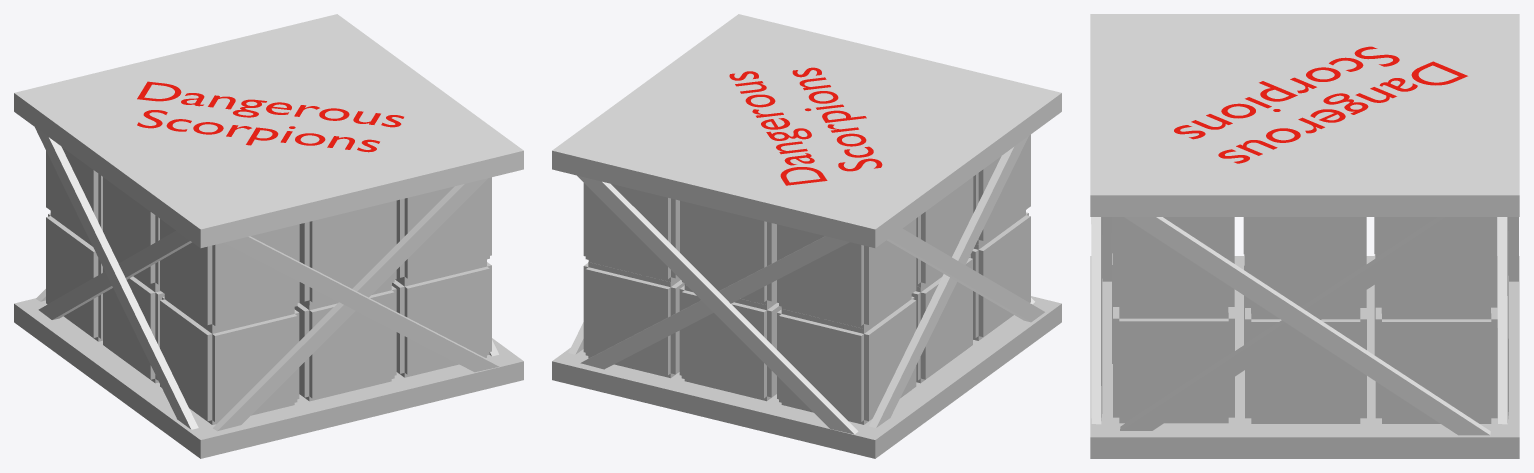
Rendered from Scorpion Box.fbx.
The picture shows the model from 3 angles, left to right: view 1: azimuth 30°, elevation 25°; view 2: azimuth 150°, elevation 25°; view 3: azimuth 270°, elevation 25°; orthographic projection. The views are drawn at different scales.
Parts seen in each view (by area): view 1: Plane.001, Plane, Cube.012, Cube.015, Cube.003, Cube, Cube.006, Cube.025, Cube.009, Cube.019, Cube.024, Cube.014 (+5 smaller); view 2: Plane.001, Plane, Cube.014, Cube.017, Cube.005, Cube.002, Cube.023, Cube.008, Cube.011, Cube.021, Cube.012, Cube.022 (+5 smaller); view 3: Plane.001, Plane, Cube.005, Cube.003, Cube.004, Cube.011, Cube.009, Cube.010, Cube.020, Cube.018, Text, Cube.024 (+3 smaller).
Boxes of the visible parts, x1,y1,x2,y2 form: Plane.001: (14, 14, 523, 248); Plane: (14, 298, 523, 458); Cube.012: (160, 294, 299, 424); Cube.015: (160, 219, 299, 328); Cube.003: (392, 261, 491, 377); Cube: (294, 285, 396, 401); Cube.006: (299, 200, 396, 305); Cube.025: (213, 178, 487, 431); Cube.009: (396, 177, 491, 281); Cube.019: (35, 127, 198, 429); Cube.024: (224, 236, 499, 372); Cube.014: (46, 211, 102, 341); Plane.001: (552, 14, 1061, 248); Plane: (552, 296, 1061, 458); Cube.014: (777, 294, 916, 424); Cube.017: (777, 218, 916, 328); Cube.005: (583, 262, 684, 378); Cube.002: (679, 285, 781, 401); Cube.023: (577, 175, 858, 434); Cube.008: (680, 200, 776, 304); Cube.011: (583, 183, 679, 281); Cube.021: (869, 136, 1028, 427); Cube.012: (970, 210, 1030, 340); Cube.022: (580, 236, 849, 369); Plane.001: (1090, 14, 1519, 216); Plane: (1090, 256, 1519, 458); Cube.005: (1375, 273, 1497, 423); Cube.003: (1113, 289, 1234, 423); Cube.004: (1245, 290, 1366, 423); Cube.011: (1375, 217, 1497, 313); Cube.009: (1112, 217, 1234, 312); Cube.010: (1244, 217, 1366, 313); Cube.020: (1124, 217, 1490, 435); Cube.018: (1120, 217, 1476, 430); Text: (1174, 46, 1467, 163); Cube.024: (1091, 217, 1102, 424).
Size of the model in its own units: 423 by 288 by 423.
